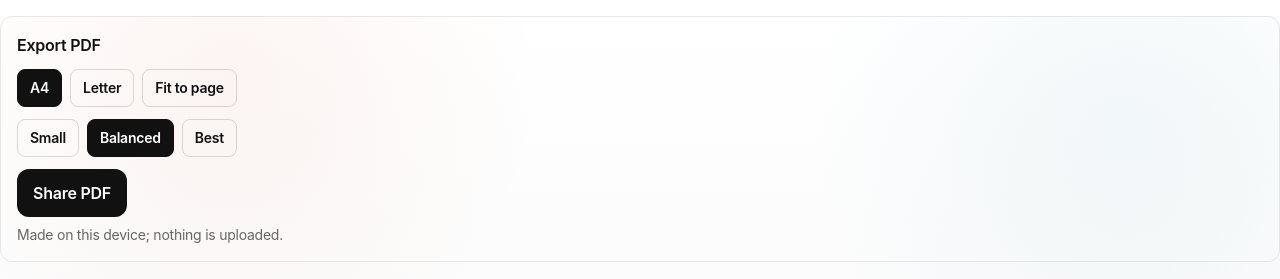
Test: ExportPanel › says so when the PDF cannot be made
Click the button "Share PDF" at (72, 193), box top-left (17, 169), bottom-right (127, 217)
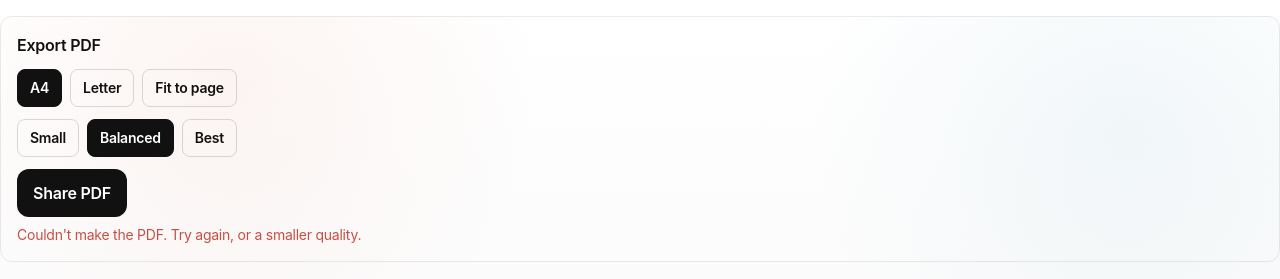
Expected: the message shows "Couldn't make the PDF", top-left (17, 226), bottom-right (361, 243)
